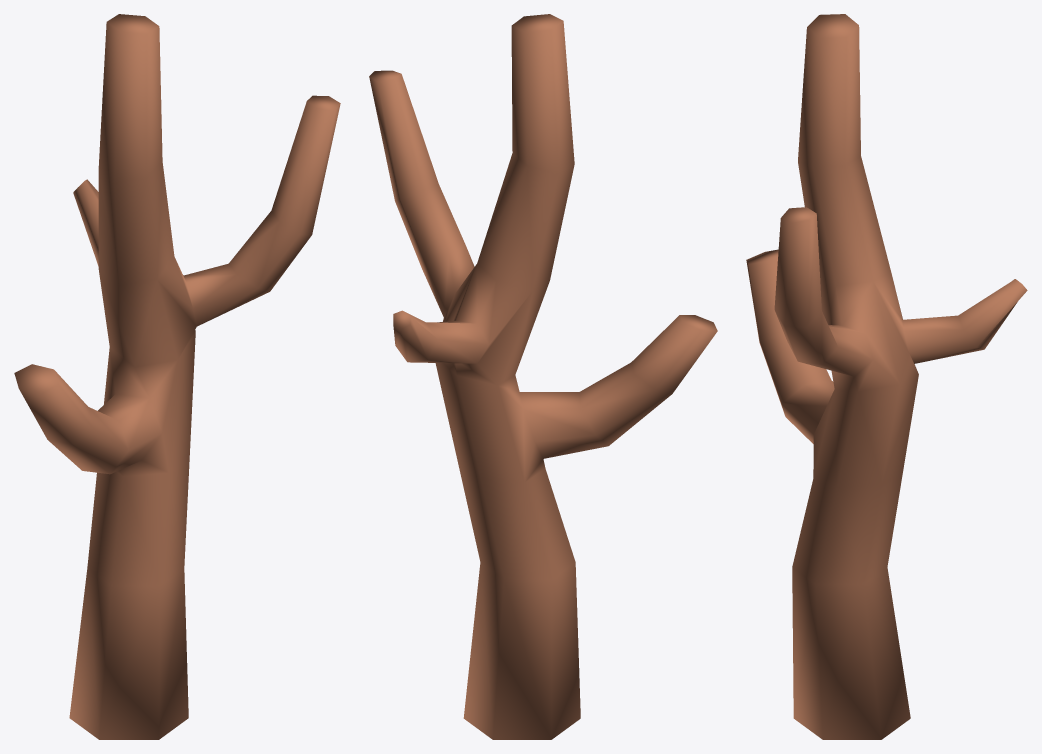
File: Tree_Btm_A_02_LOD2.gltf
3 renders of one model, left to right at view 1: azimuth 30°, elevation 25°; view 2: azimuth 150°, elevation 25°; view 3: azimuth 270°, elevation 25°, orthographic.
Parts seen in each view (by area): view 1: Tree_Btm_A_02_LOD2_Cylinder.741; view 2: Tree_Btm_A_02_LOD2_Cylinder.741; view 3: Tree_Btm_A_02_LOD2_Cylinder.741.
Boxes of the visible parts, x1,y1,x2,y2 form: Tree_Btm_A_02_LOD2_Cylinder.741: (14, 14, 340, 739); Tree_Btm_A_02_LOD2_Cylinder.741: (369, 14, 717, 739); Tree_Btm_A_02_LOD2_Cylinder.741: (746, 14, 1027, 739).
Bounding box in the file's own units: 4.39 × 8.81 × 3.25.
Materials: 1 (1 with a texture image).
